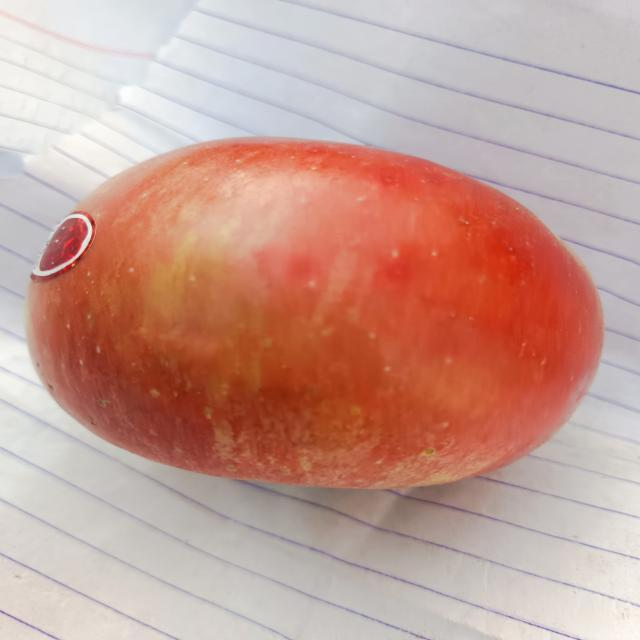Fresh Apple: (23, 126, 607, 492)
